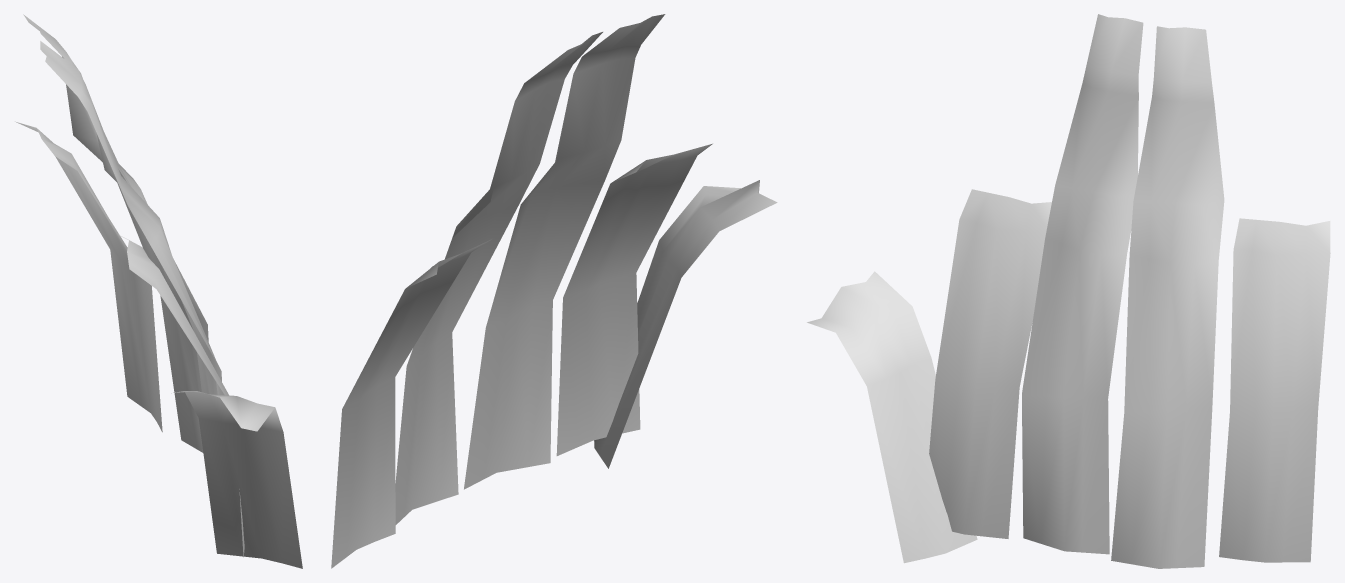
File: xl_liushui_6.FBX
3 views of the same model, side by side, from view 1: azimuth 30°, elevation 25°; view 2: azimuth 150°, elevation 25°; view 3: azimuth 270°, elevation 25° (orthographic). The views are drawn at different scales.
Visible parts, largest first — view 1: xl_liushui_6; view 2: xl_liushui_6; view 3: xl_liushui_6.
Boxes of the visible parts, left/top/right/bottom form: xl_liushui_6: left=15, top=14, right=302, bottom=568; xl_liushui_6: left=331, top=14, right=777, bottom=568; xl_liushui_6: left=807, top=14, right=1330, bottom=568.
Bounding box in the file's own units: 5894 × 13806 × 13898.
